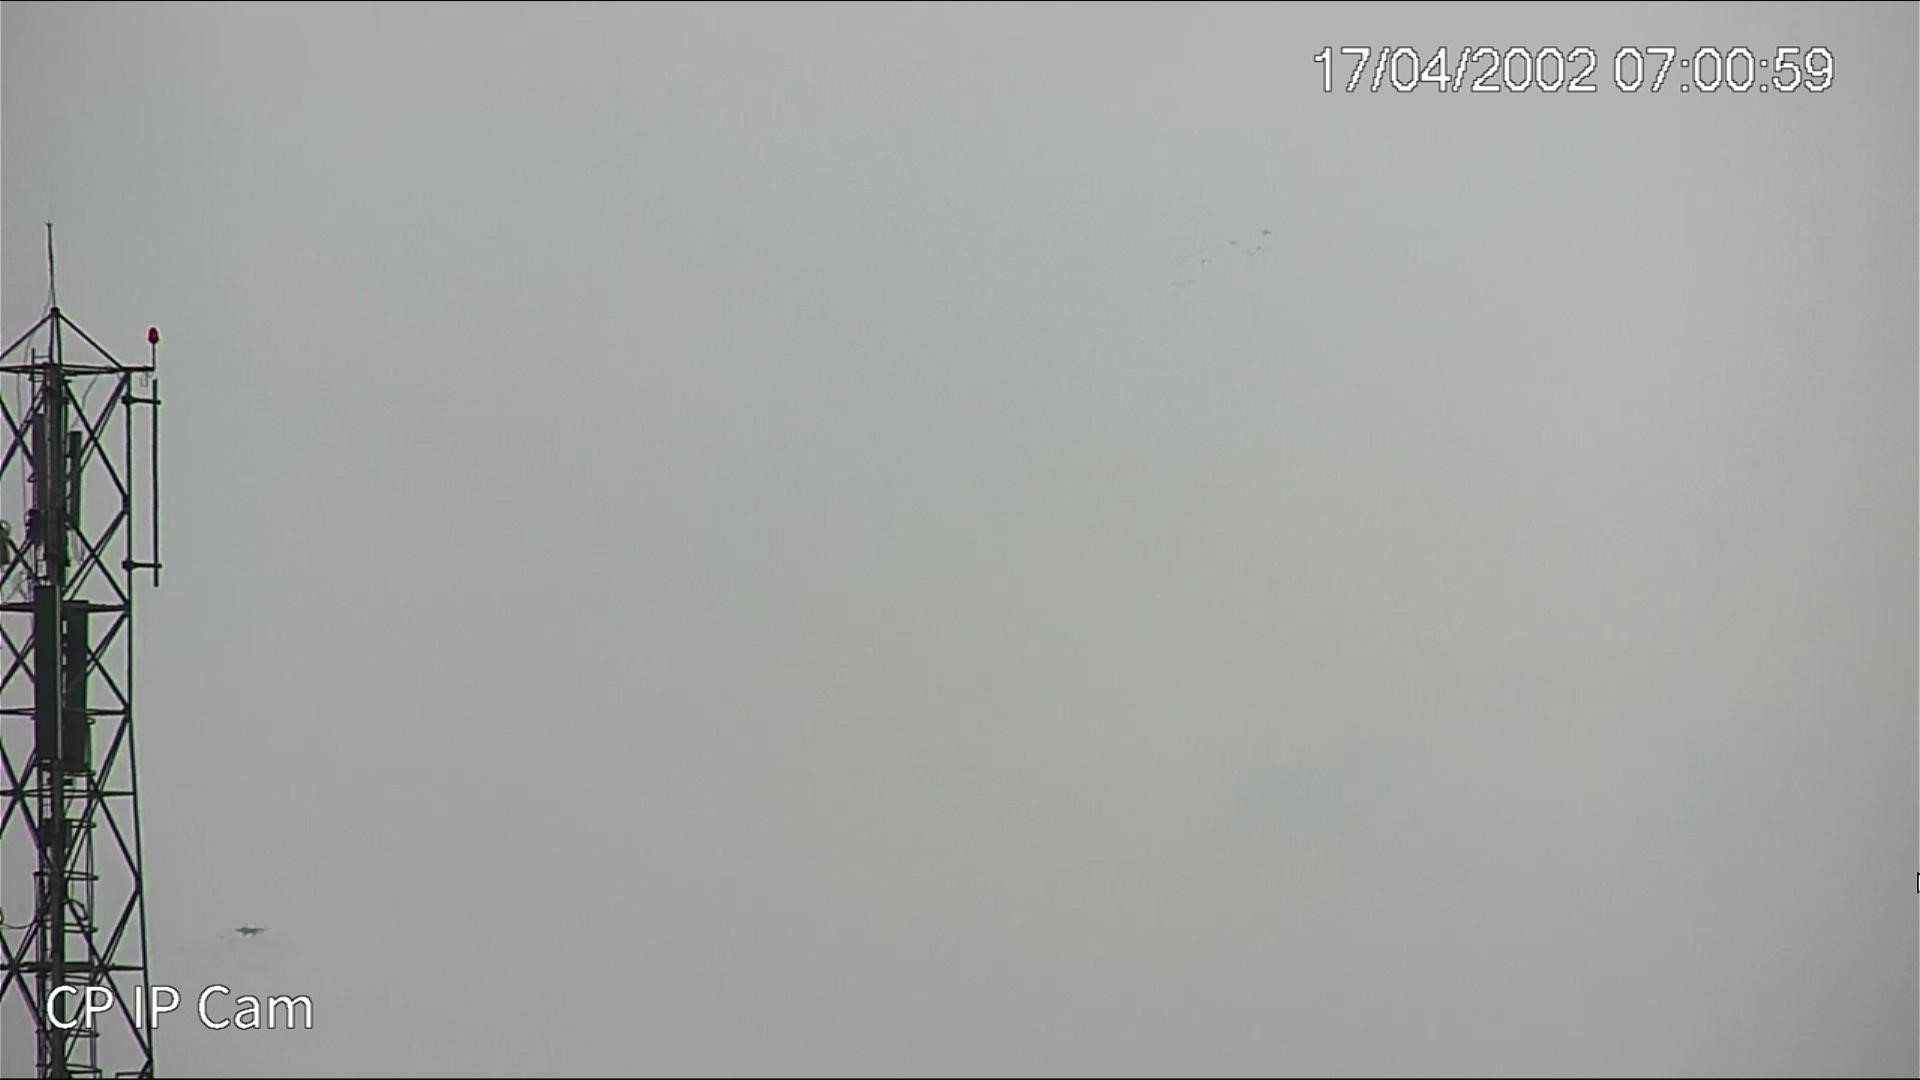SU_30: (236, 924, 266, 938)
